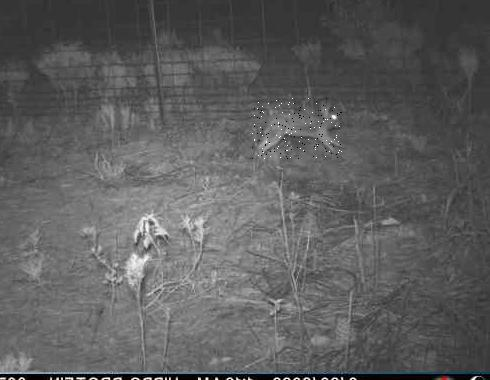Rabbit: (250, 99, 341, 160)
